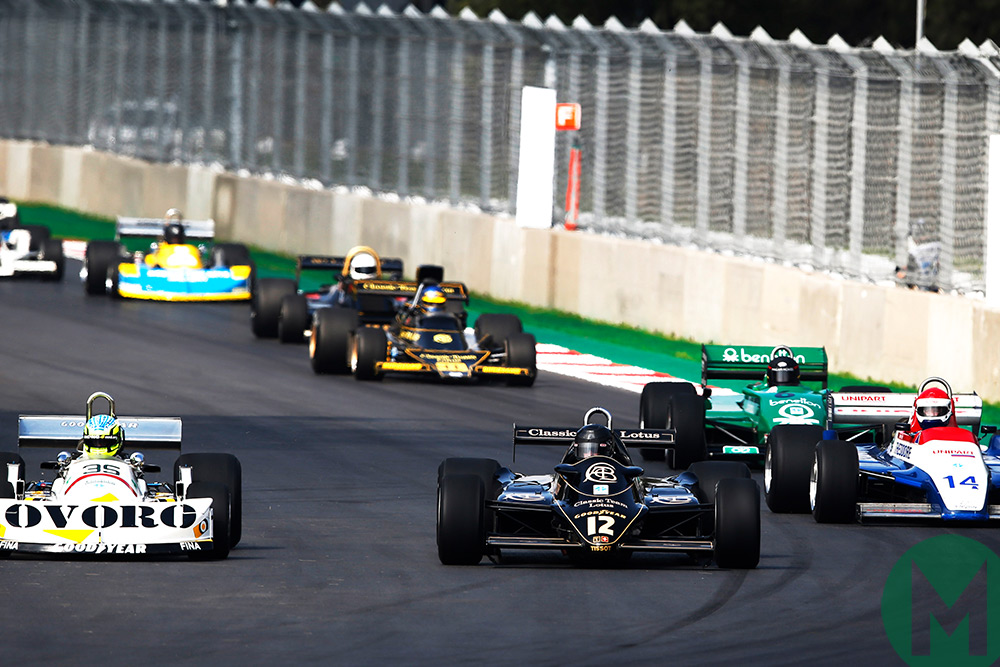f1_car: (416, 399, 778, 586), (1, 382, 257, 577), (753, 374, 1000, 532), (627, 331, 896, 461), (308, 273, 548, 400), (74, 207, 263, 318), (246, 241, 418, 347)
helmet: (905, 385, 963, 437), (74, 411, 130, 464), (568, 422, 622, 468), (759, 354, 808, 393), (344, 249, 384, 284), (412, 282, 452, 316)
